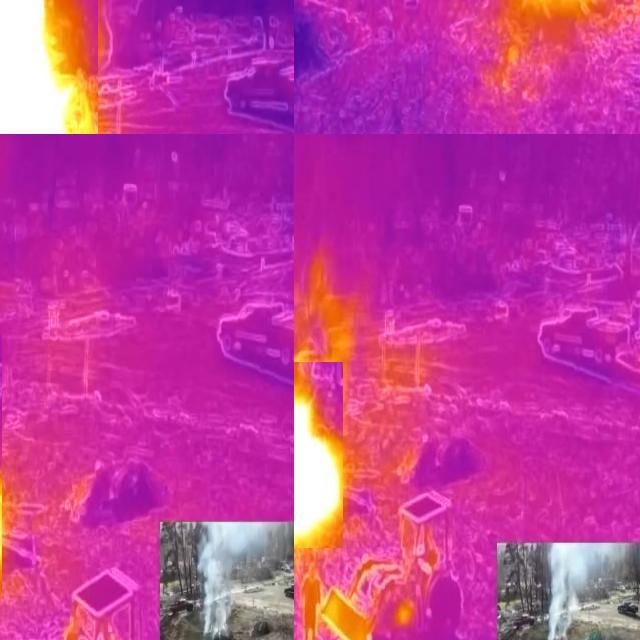fire: (1, 1, 98, 135), (295, 363, 344, 549)
